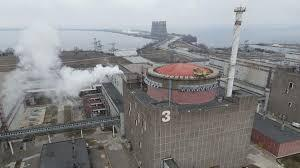smoke: (3, 18, 124, 109)
